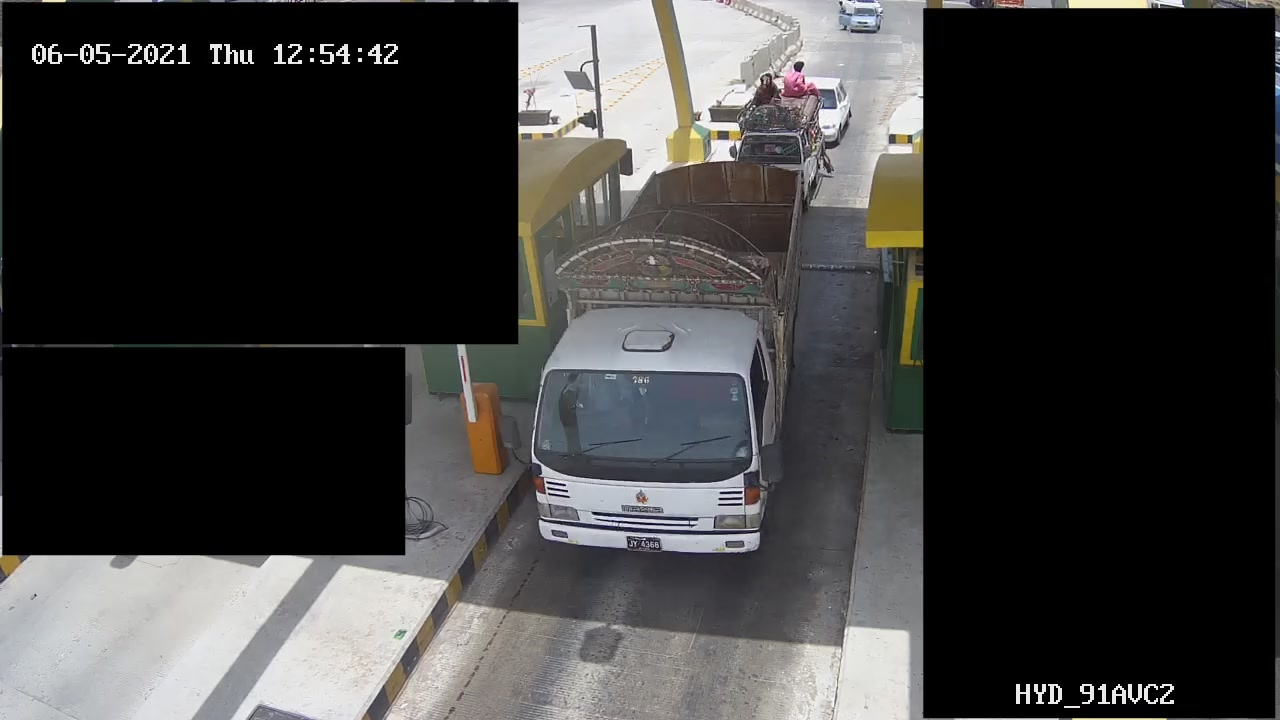F3: (532, 140, 810, 563)
